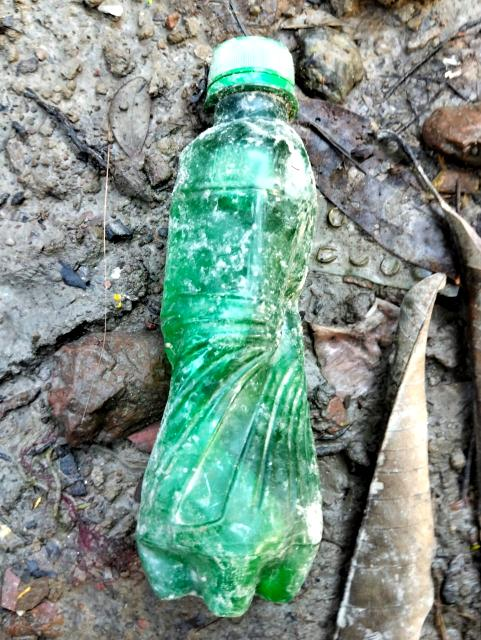bottle: (157, 46, 332, 616)
